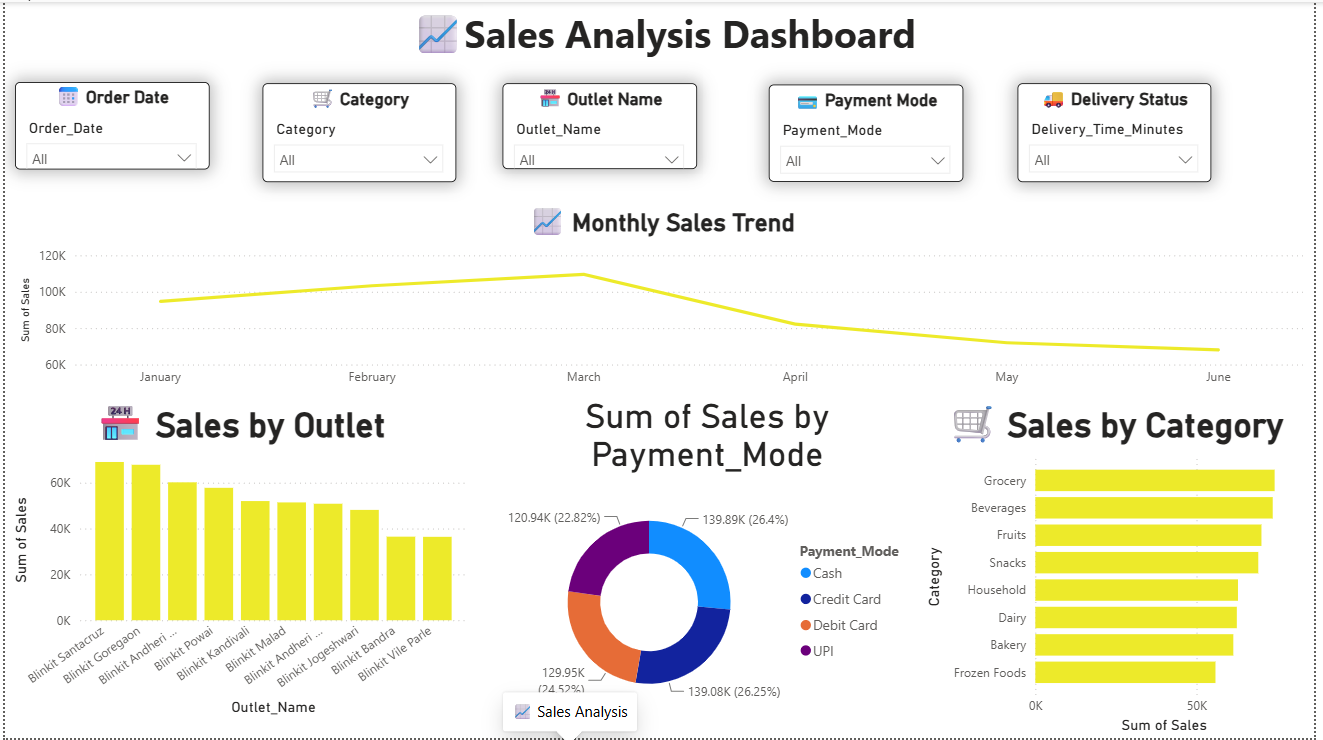

The dashboard page shown, as its layout file describes it:
{"tool":"powerbi","page":{"name":"📈 Sales Analysis","canvas":[1280,720],"ordinal":2},"visuals":[{"type":"textbox","box":[10.1,0,1269.6,77.9],"z":0},{"type":"slicer","title":"📅 Order Date","fields":{"Values":["Blinkit_Mumbai_Andheri_.Order_Date"]},"box":[9.8,78.3,190.8,85.6],"z":1000},{"type":"slicer","title":"🛒 Category","fields":{"Values":["Blinkit_Mumbai_Andheri_.Category"]},"box":[251.9,79.5,189.5,96.6],"z":2000},{"type":"slicer","title":"🏪 Outlet Name","fields":{"Values":["Blinkit_Mumbai_Andheri_.Outlet_Name"]},"box":[486.7,79.5,190.8,84.4],"z":3000},{"type":"slicer","title":"💳 Payment Mode","fields":{"Values":["Blinkit_Mumbai_Andheri_.Payment_Mode"]},"box":[747.2,80.7,190.8,95.4],"z":4000},{"type":"slicer","title":"🚚 Delivery Status","fields":{"Values":["Blinkit_Mumbai_Andheri_.Delivery_Time_Minutes"]},"box":[990.5,79.5,189.5,96.6],"z":5000},{"type":"lineChart","title":"📈 Monthly Sales Trend","fields":{"Category":["Blinkit_Mumbai_Andheri_.Order_Date.Variation.Date Hierarchy.Month"],"Y":["Sum(Blinkit_Mumbai_Andheri_.Sales)"]},"box":[10.1,196.2,1265.3,189],"z":6000},{"type":"clusteredBarChart","title":"🛒 Sales by Category","fields":{"Category":["Blinkit_Mumbai_Andheri_.Category"],"Y":["Sum(Blinkit_Mumbai_Andheri_.Sales)"]},"box":[896.3,385.2,379.1,335.1],"z":7000},{"type":"donutChart","fields":{"Category":["Blinkit_Mumbai_Andheri_.Payment_Mode"],"Y":["Sum(Blinkit_Mumbai_Andheri_.Sales)"]},"box":[477.6,385.2,418.2,317.9],"z":8000},{"type":"clusteredColumnChart","title":"🏪 Sales by Outlet","fields":{"Category":["Blinkit_Mumbai_Andheri_.Outlet_Name"],"Y":["Sum(Blinkit_Mumbai_Andheri_.Sales)"]},"box":[2.9,385.2,454.5,317.4],"z":9000}]}

Visuals, with their boxes in screenshot pixels (x1, y1, x2, y2), scaled from the page's 1280x720 canvas onto the 1323x740 screenshot:
textbox: [left=10, top=0, right=1322, bottom=80]
"📅 Order Date" slicer: [left=10, top=80, right=207, bottom=168]
"🛒 Category" slicer: [left=260, top=82, right=456, bottom=181]
"🏪 Outlet Name" slicer: [left=503, top=82, right=700, bottom=168]
"💳 Payment Mode" slicer: [left=772, top=83, right=970, bottom=181]
"🚚 Delivery Status" slicer: [left=1024, top=82, right=1220, bottom=181]
"📈 Monthly Sales Trend" lineChart: [left=10, top=202, right=1318, bottom=396]
"🛒 Sales by Category" clusteredBarChart: [left=926, top=396, right=1318, bottom=739]
donutChart - Blinkit_Mumbai_Andheri_.Payment_Mode x Sum(Blinkit_Mumbai_Andheri_.Sales): [left=494, top=396, right=926, bottom=723]
"🏪 Sales by Outlet" clusteredColumnChart: [left=3, top=396, right=473, bottom=722]
